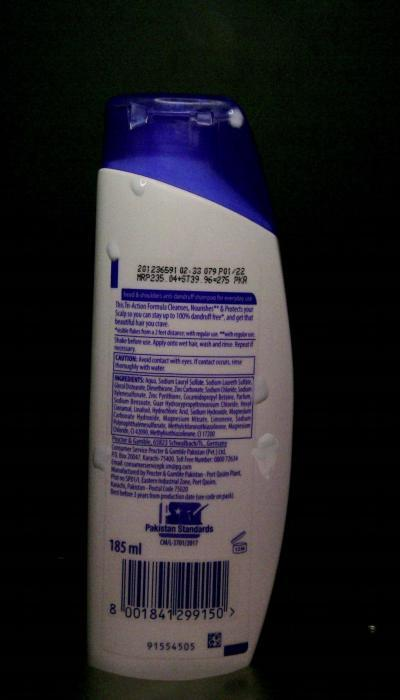pob_unacc: (249, 426, 288, 476), (244, 363, 278, 408), (90, 430, 120, 480), (123, 163, 160, 203), (215, 98, 247, 142), (103, 234, 132, 274)
